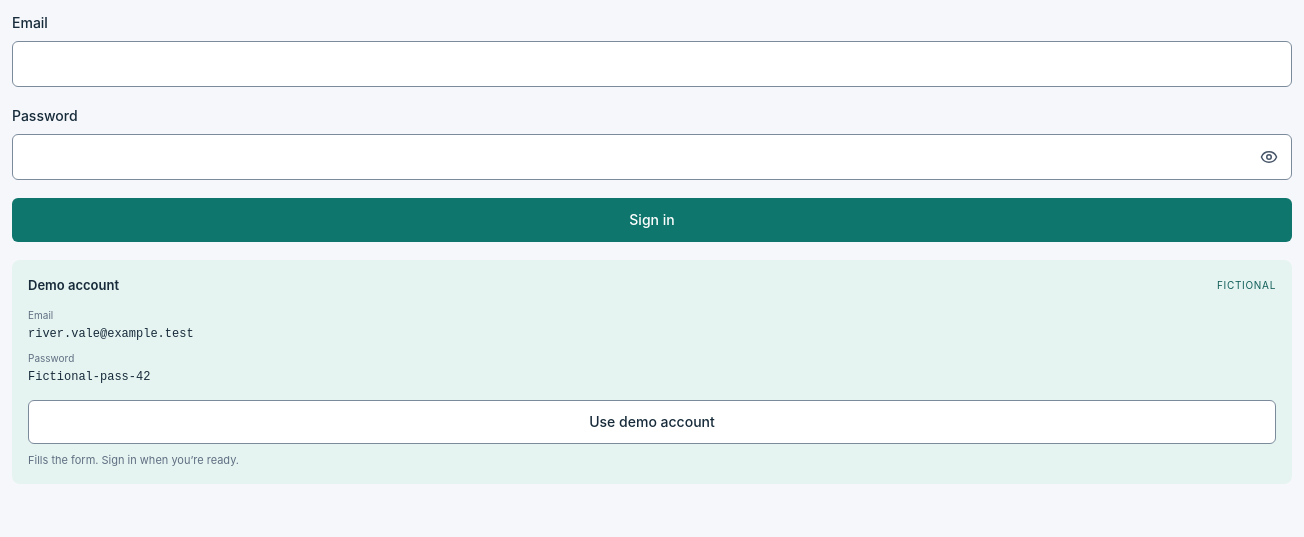
Test: normalizes successful login and prevents duplicate submission while announcing pending state
Type "RIVER.VALE@example.test" into the field labelled "Email".
click(652, 64); type("RIVER.VALE@example.test")  # box [12,41,1292,87]
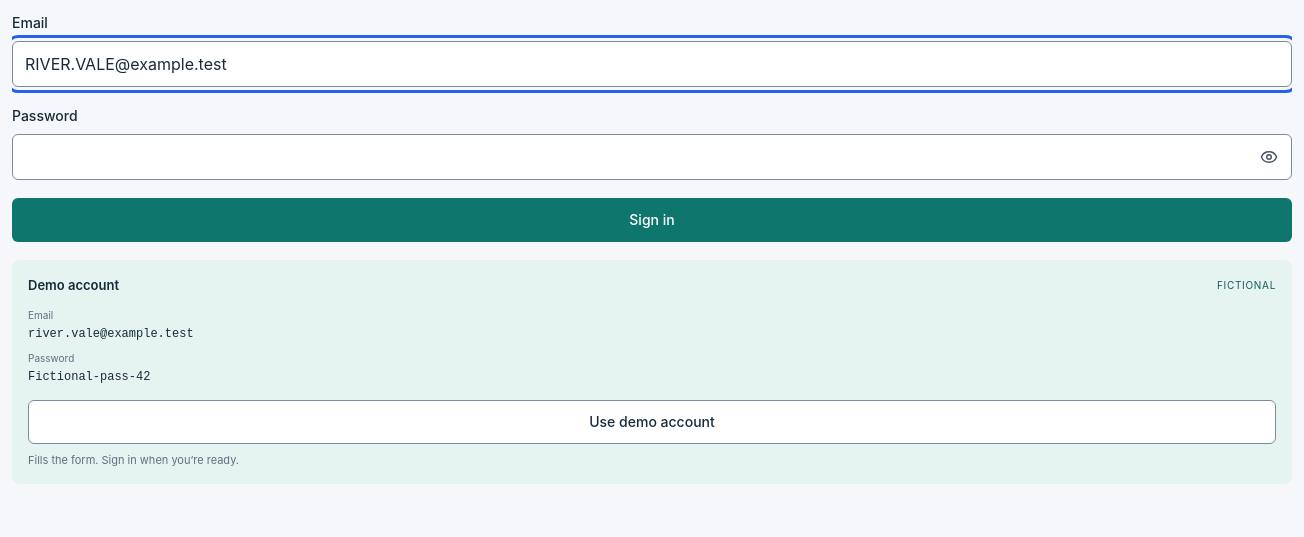
Type "Fictional-pass-42" into the password field labelled "Password".
click(652, 157); type("Fictional-pass-42")  # box [12,134,1292,180]
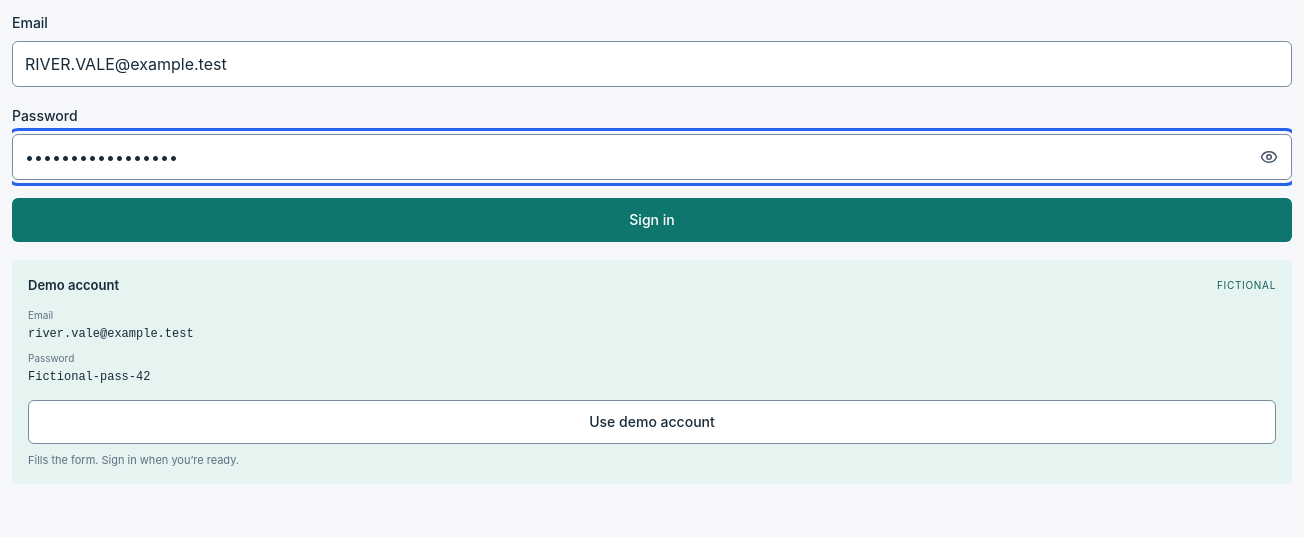
Click the button "Sign in".
click(652, 220)  # box [12,198,1292,242]
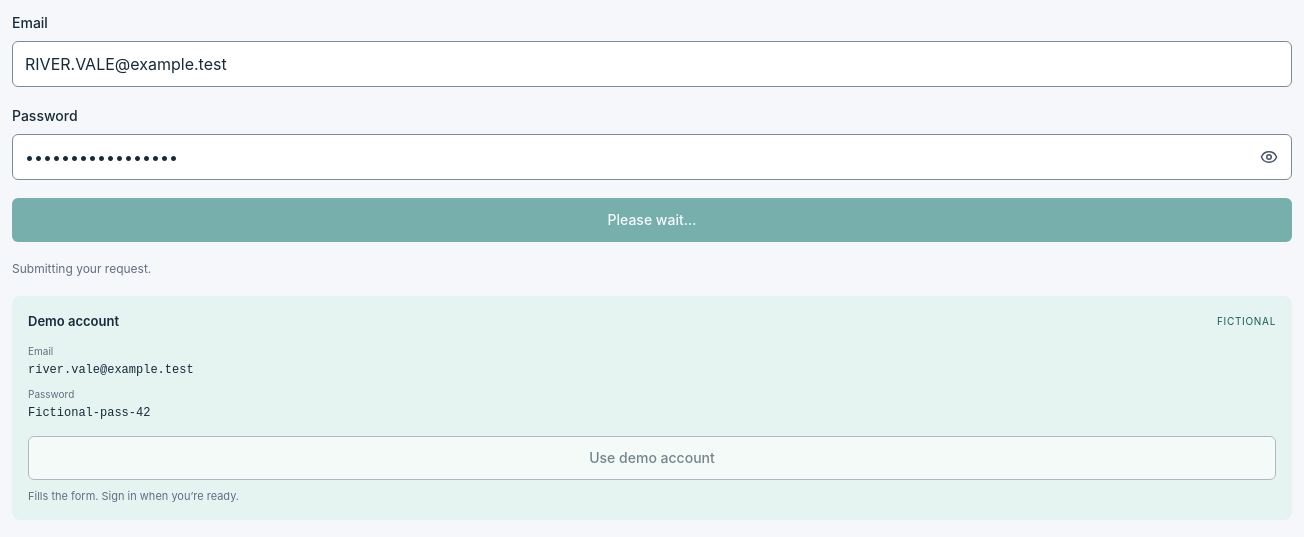
Expected: the button "Please wait…" is disabled, [12,198,1292,242]
Press Enter
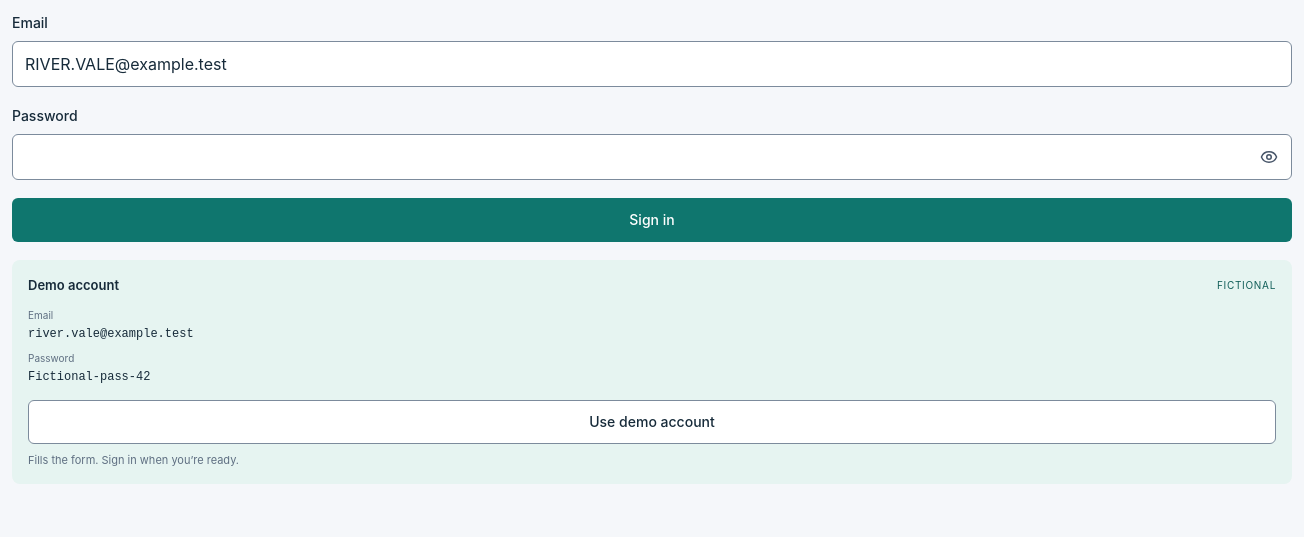
Expected: the button "Sign in" is enabled, [12,198,1292,242]
